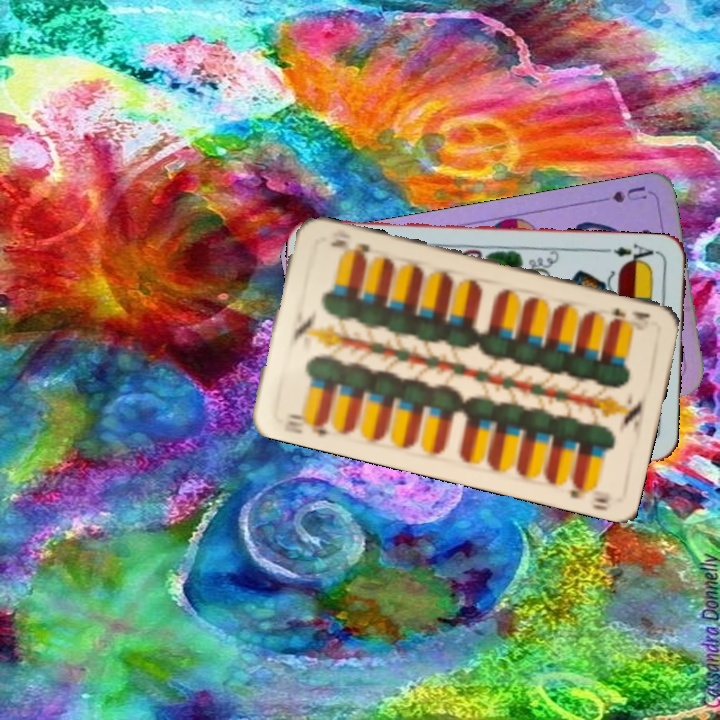E10: (279, 409, 331, 438), (607, 304, 653, 322)
EA: (602, 240, 661, 267)
SU: (590, 182, 650, 206)
